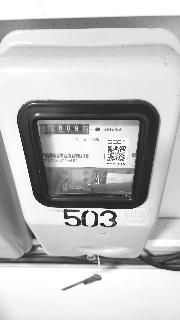1: (43, 126, 46, 131), (68, 126, 71, 131)
3: (51, 126, 54, 131)
9: (60, 126, 63, 131), (76, 126, 79, 131)
:: (84, 127, 87, 132)
